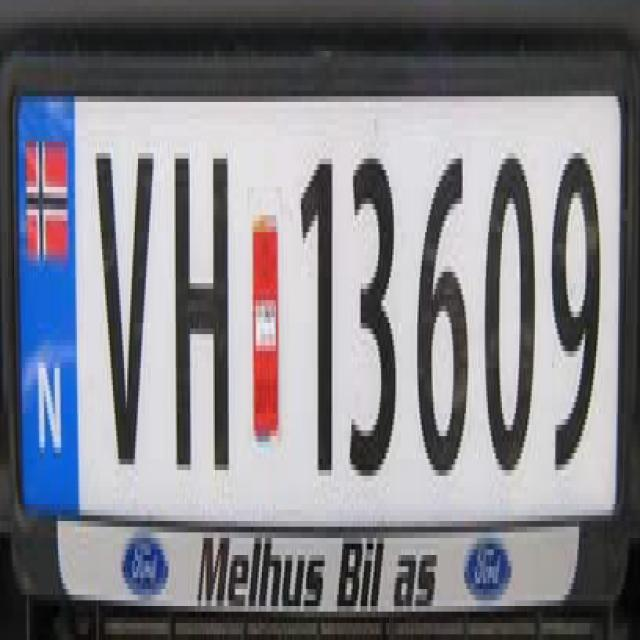Autre: (3, 73, 629, 531)
